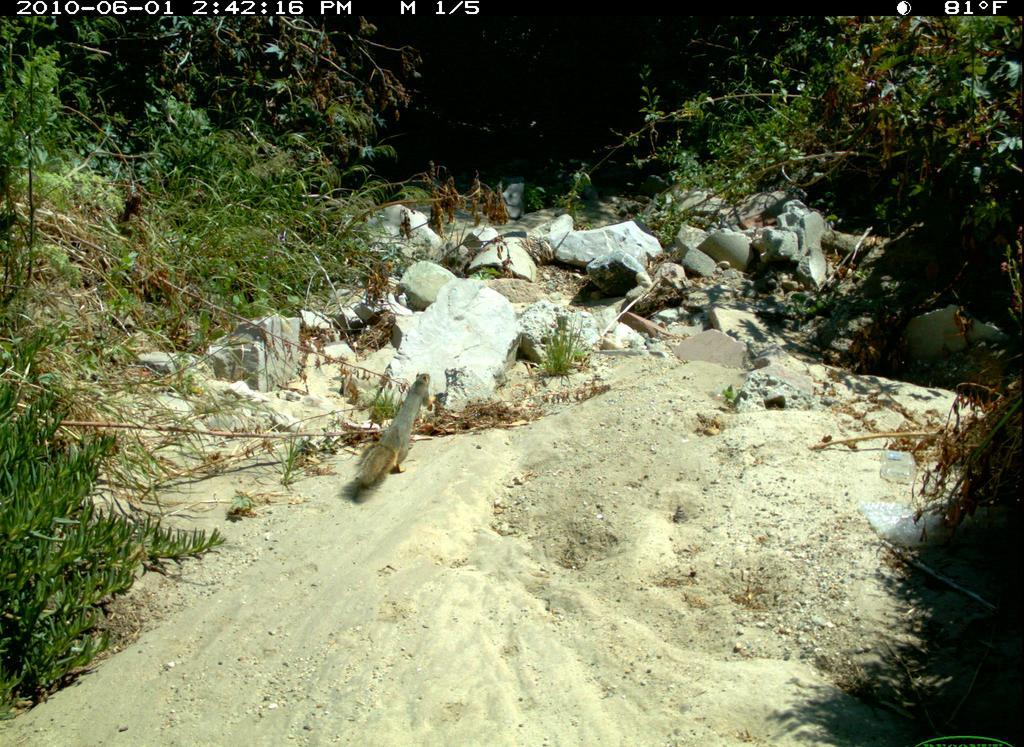squirrel: (337, 363, 456, 514)
